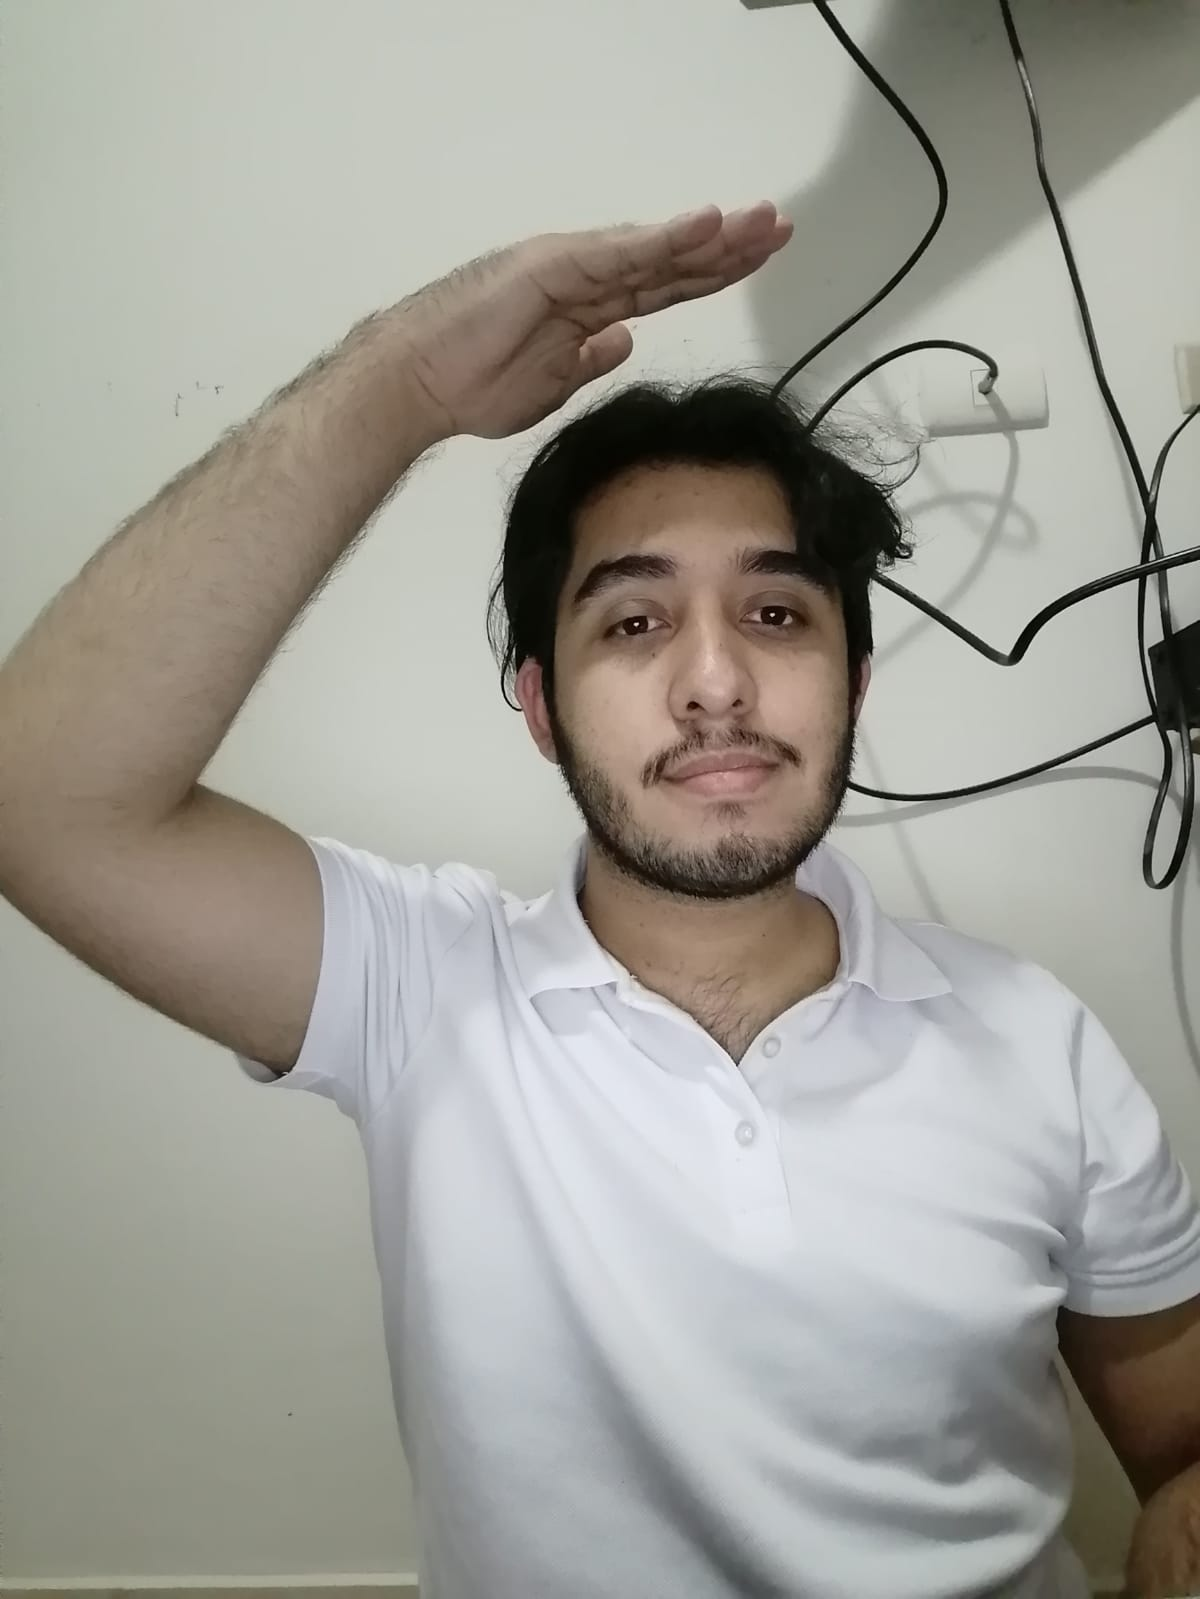Hat: (291, 197, 819, 450)
